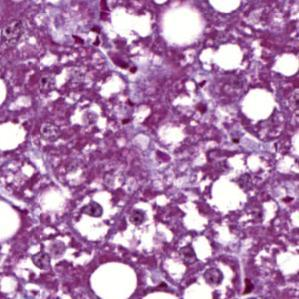steatosis: (239, 87, 279, 123)
